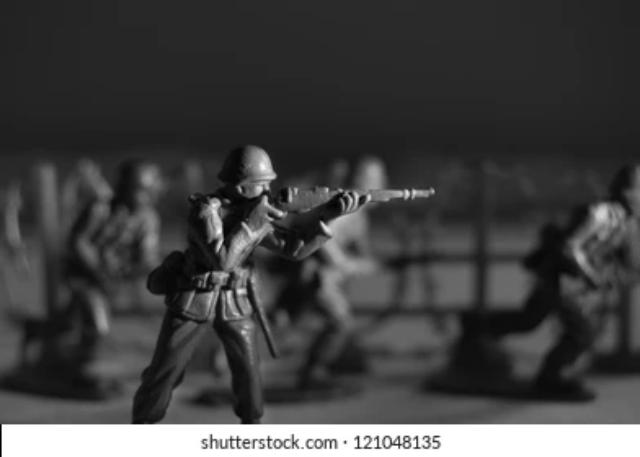other: (167, 139, 276, 416), (522, 163, 640, 406), (43, 171, 163, 388)
